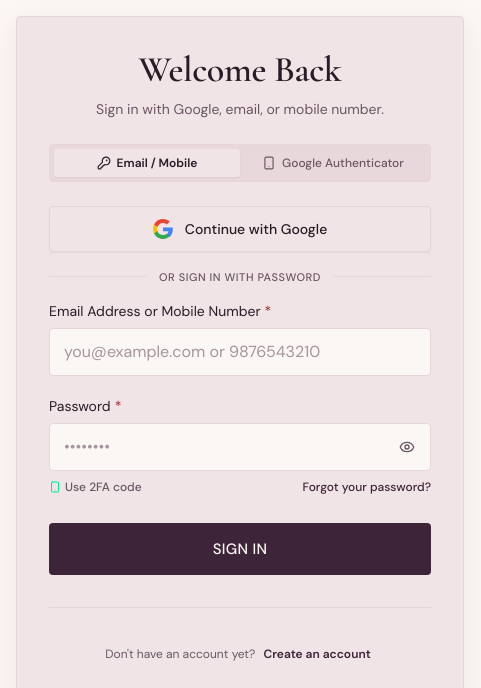
Test: FE-25: Sign up and login pages › Login Page › validates email format before sending
Type "not-an-email" into the field labelled "Email Address or Mobile Number*" at [240, 352], box [49,328,431,376]
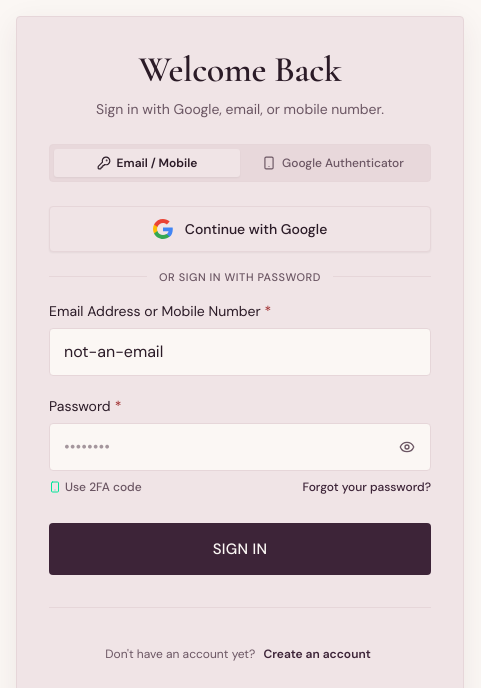
Click the button with test id "login-submit-btn" at [240, 550], box [49,524,431,576]
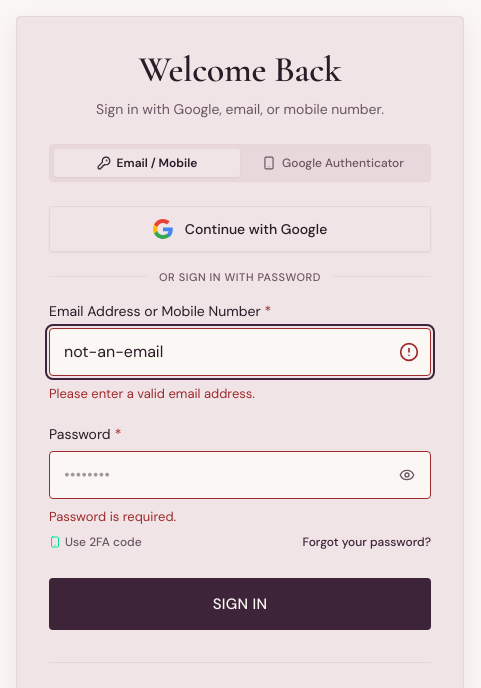
Expected: the text "Please enter a valid email address." is shown, [49,384,255,404]
